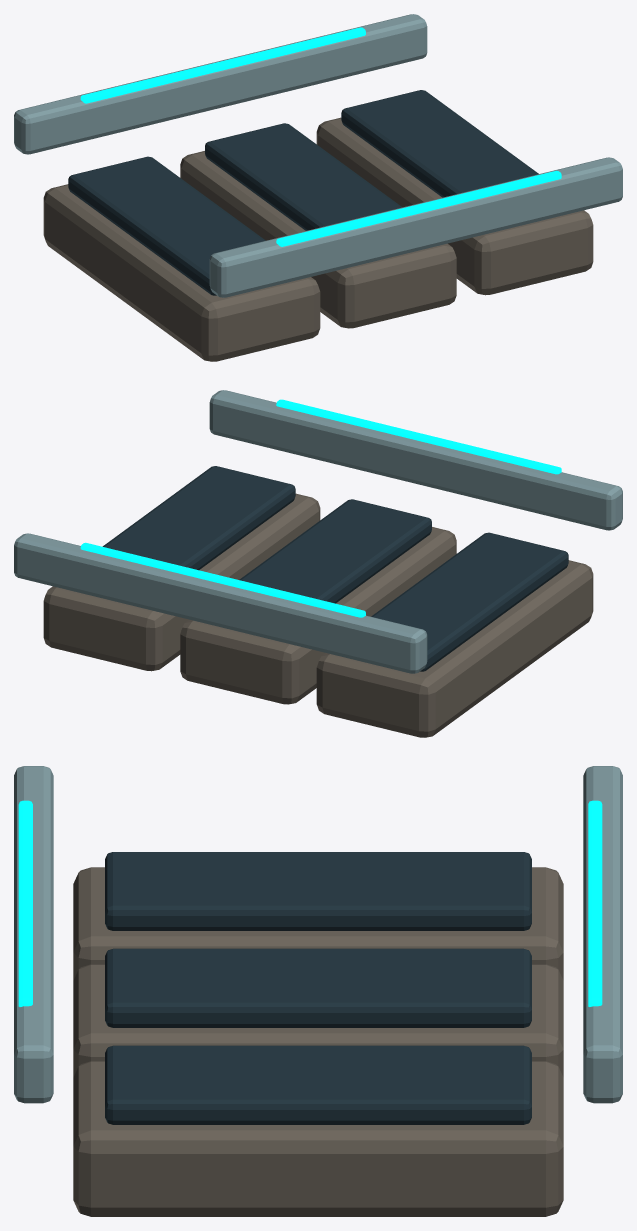
Rendered from Bridge.glb.
3 renders of one model, top to bottom at view 1: azimuth 30°, elevation 25°; view 2: azimuth 150°, elevation 25°; view 3: azimuth 270°, elevation 25°, orthographic. The views are drawn at different scales.
Parts seen in each view (by area): view 1: Bridge_Segment_-0.58, Bridge_Rail_-0.72, Bridge_Rail_0.72, Bridge_Segment_0.58, Bridge_Segment_0, Bridge_MetalBand_-0.58, Bridge_MetalBand_0.58, Bridge_MetalBand_0, Bridge_RailGlow_0.72, Bridge_RailGlow_-0.72; view 2: Bridge_Rail_0.72, Bridge_Rail_-0.72, Bridge_Segment_-0.58, Bridge_Segment_0, Bridge_Segment_0.58, Bridge_MetalBand_-0.58, Bridge_MetalBand_0.58, Bridge_MetalBand_0, Bridge_RailGlow_-0.72, Bridge_RailGlow_0.72; view 3: Bridge_Segment_0.58, Bridge_MetalBand_0, Bridge_MetalBand_0.58, Bridge_MetalBand_-0.58, Bridge_Segment_0, Bridge_Segment_-0.58, Bridge_Rail_0.72, Bridge_Rail_-0.72, Bridge_RailGlow_0.72, Bridge_RailGlow_-0.72.
Part boxes in pixels (left/top/right/bottom): Bridge_Segment_-0.58: left=43, top=184, right=320, bottom=361; Bridge_Rail_-0.72: left=209, top=157, right=622, bottom=297; Bridge_Rail_0.72: left=14, top=14, right=427, bottom=154; Bridge_Segment_0.58: left=316, top=117, right=593, bottom=295; Bridge_Segment_0: left=180, top=151, right=456, bottom=328; Bridge_MetalBand_-0.58: left=68, top=156, right=265, bottom=295; Bridge_MetalBand_0.58: left=341, top=90, right=538, bottom=197; Bridge_MetalBand_0: left=205, top=123, right=402, bottom=230; Bridge_RailGlow_0.72: left=80, top=27, right=365, bottom=103; Bridge_RailGlow_-0.72: left=276, top=170, right=561, bottom=246; Bridge_Rail_0.72: left=14, top=533, right=427, bottom=673; Bridge_Rail_-0.72: left=209, top=390, right=622, bottom=530; Bridge_Segment_-0.58: left=316, top=560, right=593, bottom=737; Bridge_Segment_0: left=180, top=527, right=456, bottom=704; Bridge_Segment_0.58: left=43, top=493, right=320, bottom=671; Bridge_MetalBand_-0.58: left=371, top=532, right=568, bottom=671; Bridge_MetalBand_0.58: left=102, top=466, right=295, bottom=570; Bridge_MetalBand_0: left=239, top=499, right=431, bottom=603; Bridge_RailGlow_-0.72: left=276, top=399, right=561, bottom=474; Bridge_RailGlow_0.72: left=80, top=542, right=365, bottom=617; Bridge_Segment_0.58: left=73, top=1061, right=563, bottom=1216; Bridge_MetalBand_0: left=105, top=948, right=531, bottom=1027; Bridge_MetalBand_0.58: left=105, top=1045, right=531, bottom=1124; Bridge_MetalBand_-0.58: left=105, top=852, right=531, bottom=930; Bridge_Segment_0: left=73, top=964, right=563, bottom=1077; Bridge_Segment_-0.58: left=73, top=867, right=563, bottom=980; Bridge_Rail_0.72: left=583, top=766, right=622, bottom=1103; Bridge_Rail_-0.72: left=14, top=766, right=53, bottom=1103; Bridge_RailGlow_0.72: left=588, top=800, right=602, bottom=1006; Bridge_RailGlow_-0.72: left=18, top=800, right=32, bottom=1006.
Size of the model in its own units: 1.72 by 0.518 by 1.54.
